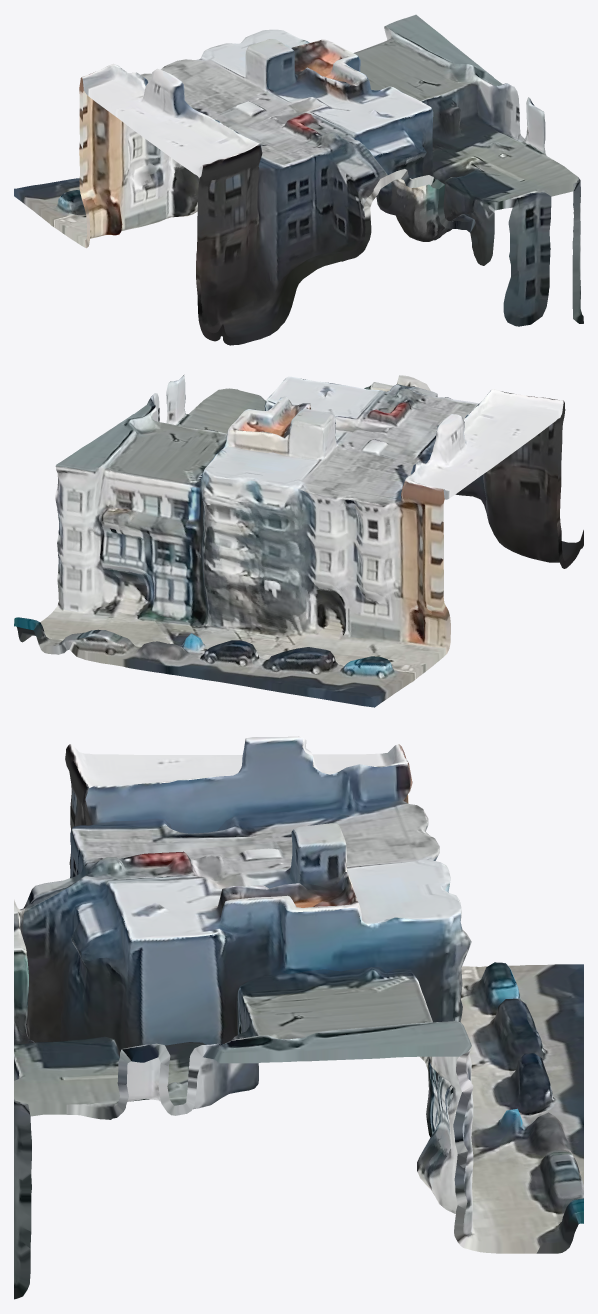
File: z20-167725-405197-h0-yup-uvflip-v3-world.glb
3 views of the same model, one above another, from view 1: azimuth 30°, elevation 25°; view 2: azimuth 150°, elevation 25°; view 3: azimuth 270°, elevation 25° (orthographic). The views are drawn at different scales.
Bounding box in the file's own units: 30.2 × 20.52 × 30.32.
1 material, 1 textured.
